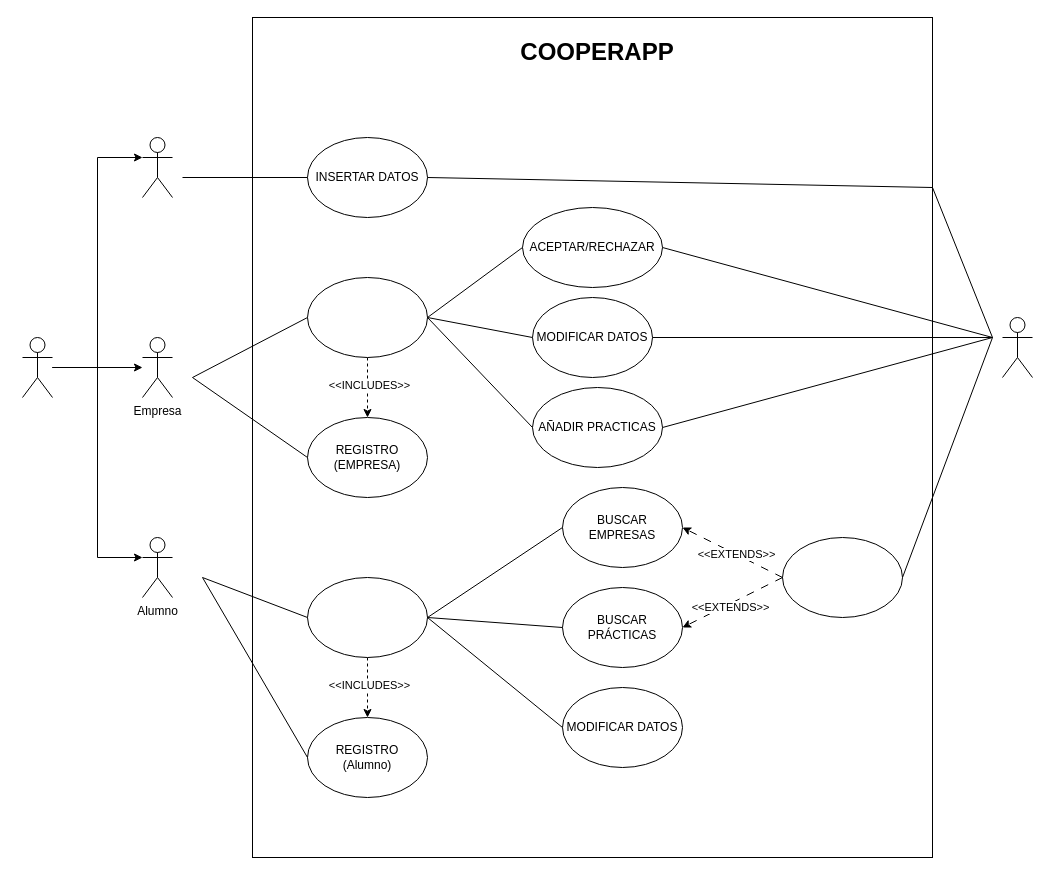
This 1057x875 diagram has some shape labels left out. The shapes that lost their labels are listed below. From the top down, each one's centre as x and y in pixels, then its label:
(157,167): Centro
(367,317): INICIO SESIÓN (EMPRESA)
(37,367): Usuario
(1017,347): Servidor
(842,577): FILTRAR
(367,617): INICIO SESIÓN (Alumno)
